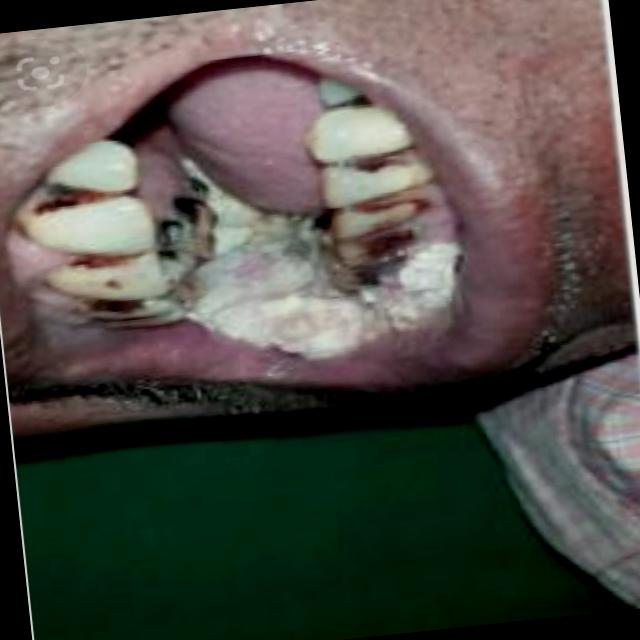Cancer: (70, 100, 592, 403)
